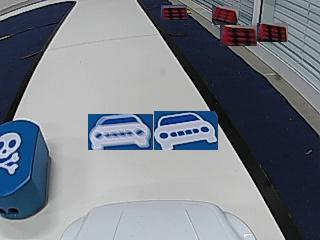danger: (1, 132, 23, 174)
